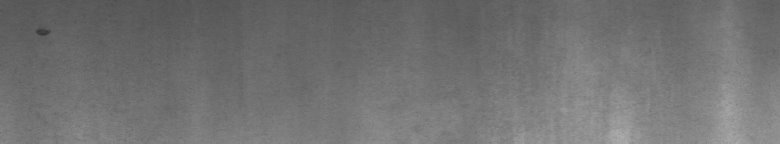fi: (36, 22, 52, 44)
